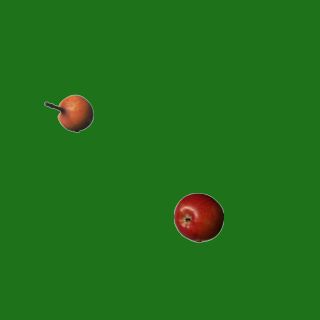Apple Braeburn: (173, 192, 223, 242)
Granadilla: (43, 88, 93, 138)
